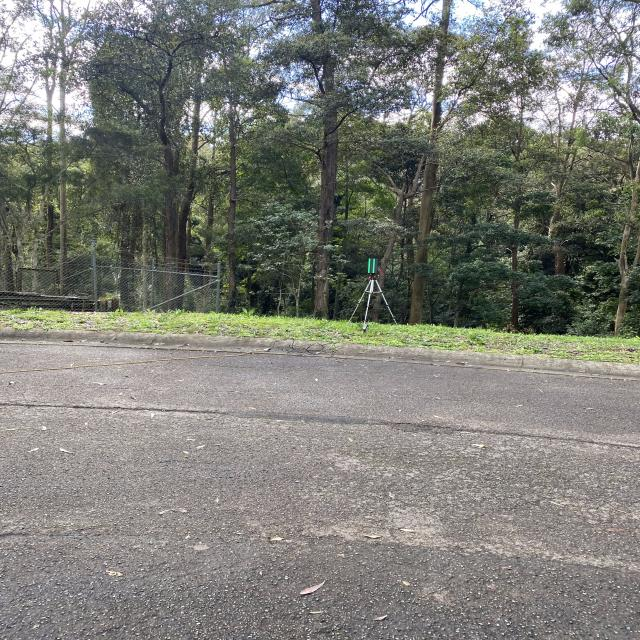matrix: (366, 256, 379, 276)
